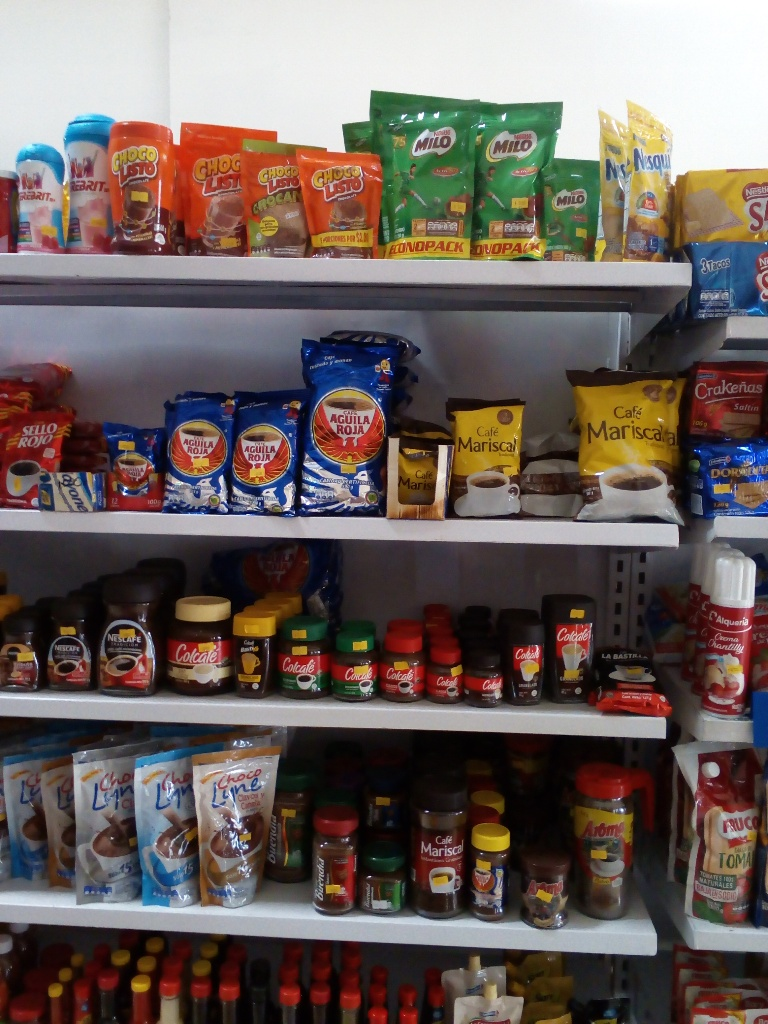COL0170102DYP10000: (237, 139, 297, 256)
COL0170103DYP20000: (178, 116, 271, 255)
COL0170103TRR30000: (115, 119, 179, 256)
COL0170203DYP10000: (544, 157, 598, 256)
COL0170203DYP25000: (380, 97, 474, 260)
COL0170303DYP20000: (624, 94, 672, 252)
COL0170306DYP20000: (595, 110, 628, 253)
